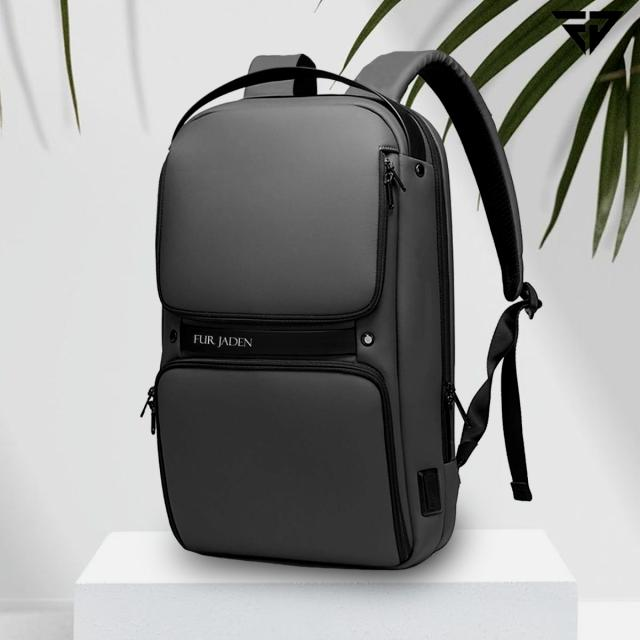backpack: (143, 50, 543, 571)
